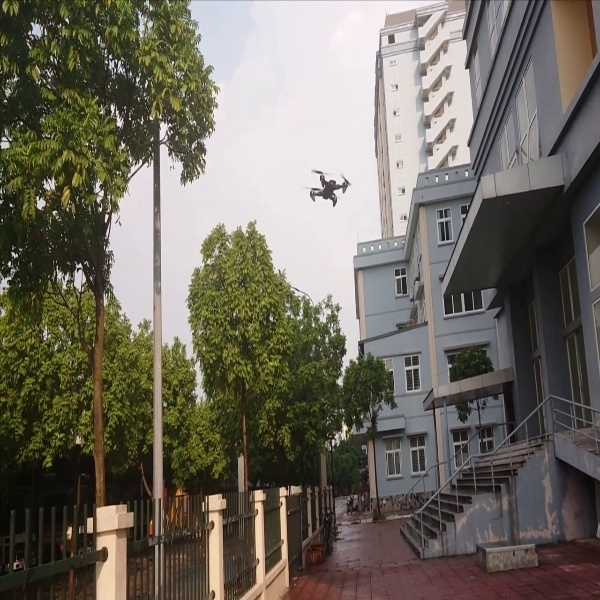drone: (296, 167, 354, 209)
